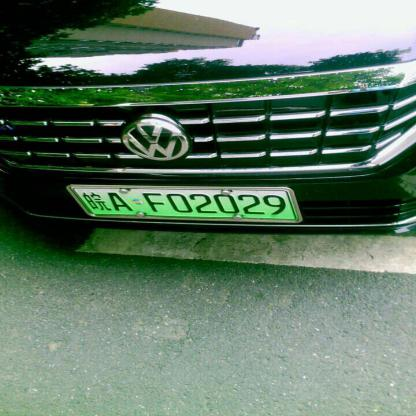lp: (70, 188, 296, 219)
